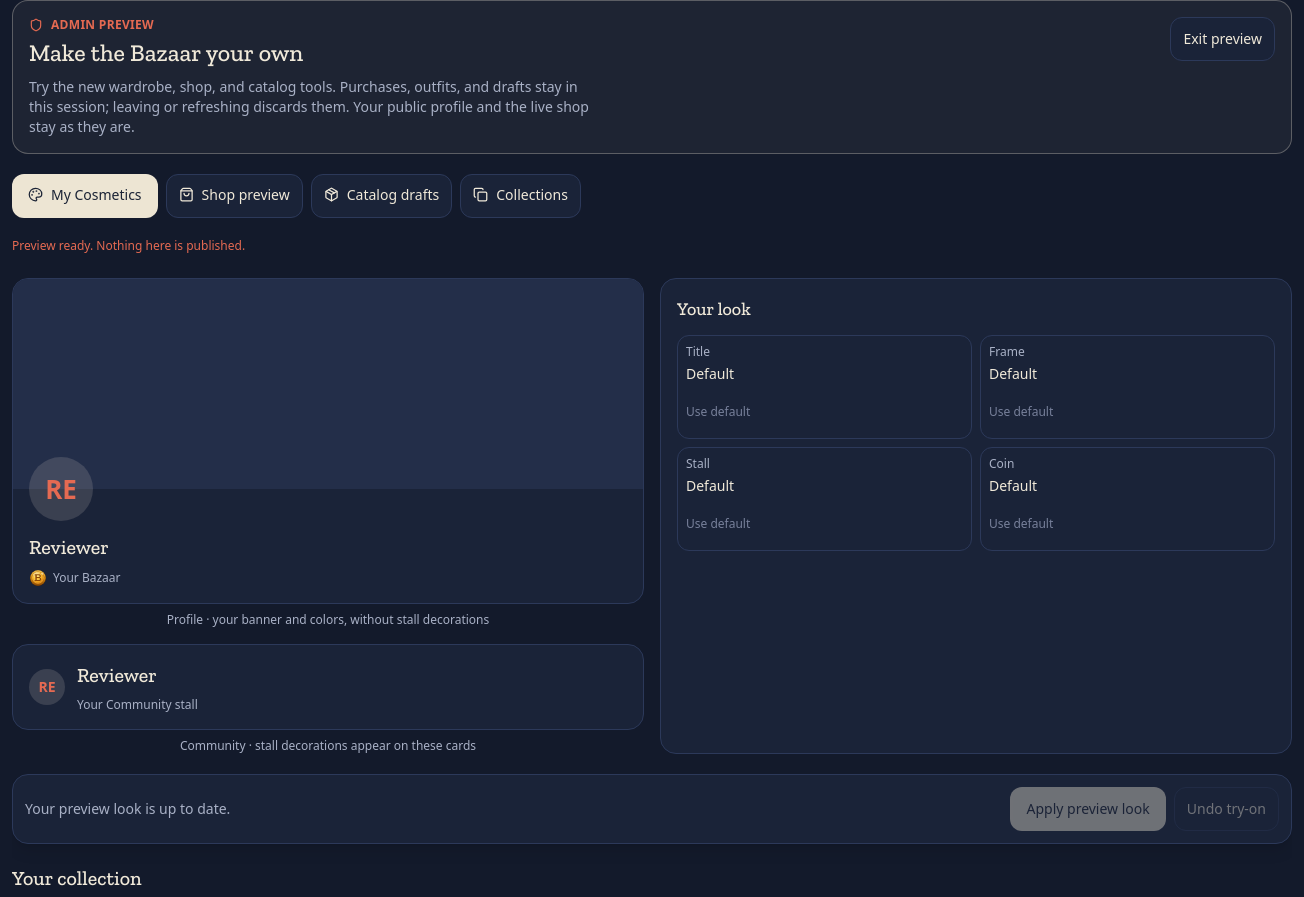
Test: admin-only cosmetics preview › creates a collection and assigns members only within the preview
Click the button "Collections" at x=521, y=196, box [460,174,581,218]
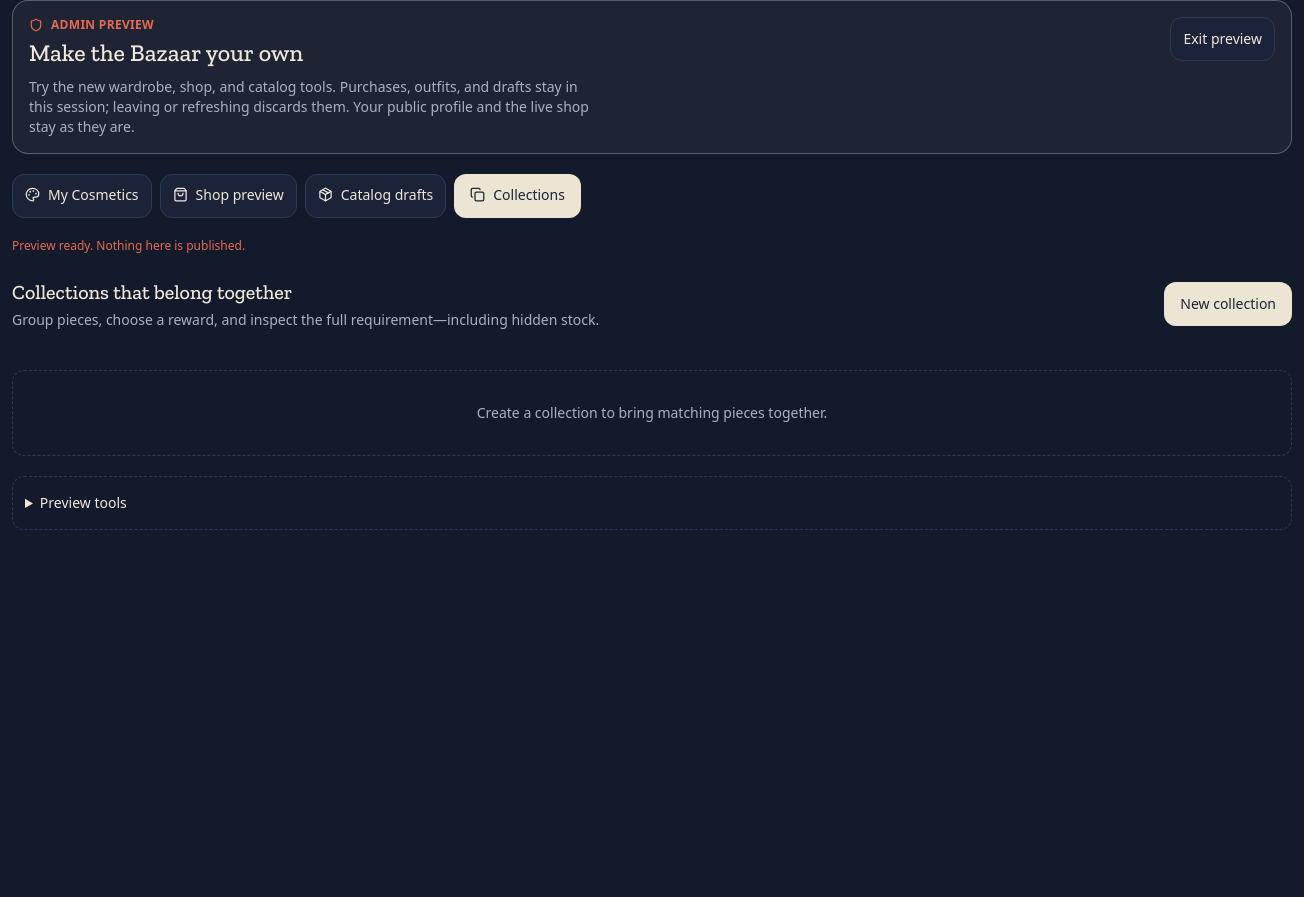
Click the button "New collection" at x=1228, y=304, box [1164,282,1292,326]
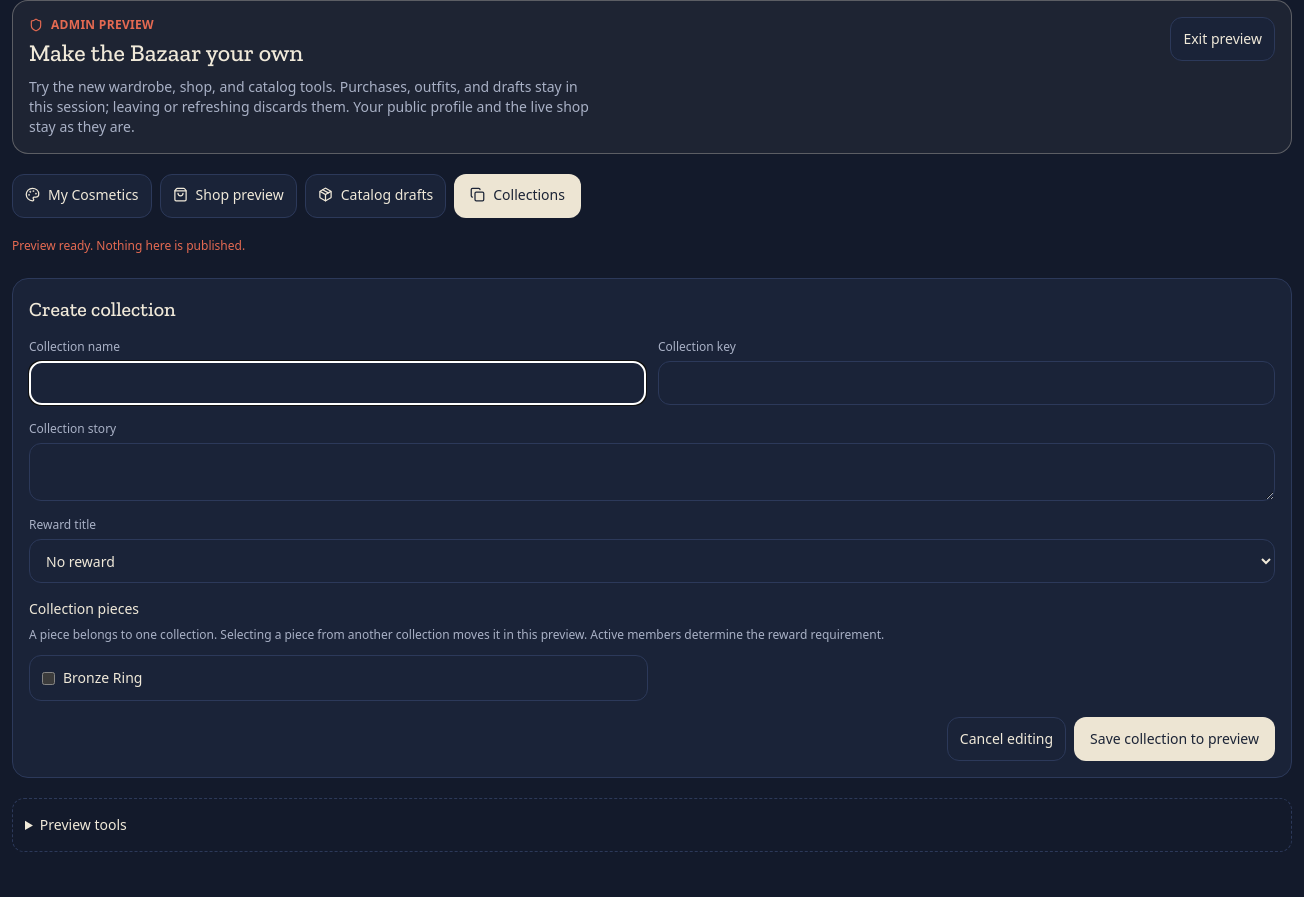
Type "Warm Metals" into the field labelled "Collection name" at x=338, y=383, box [29,361,646,405]
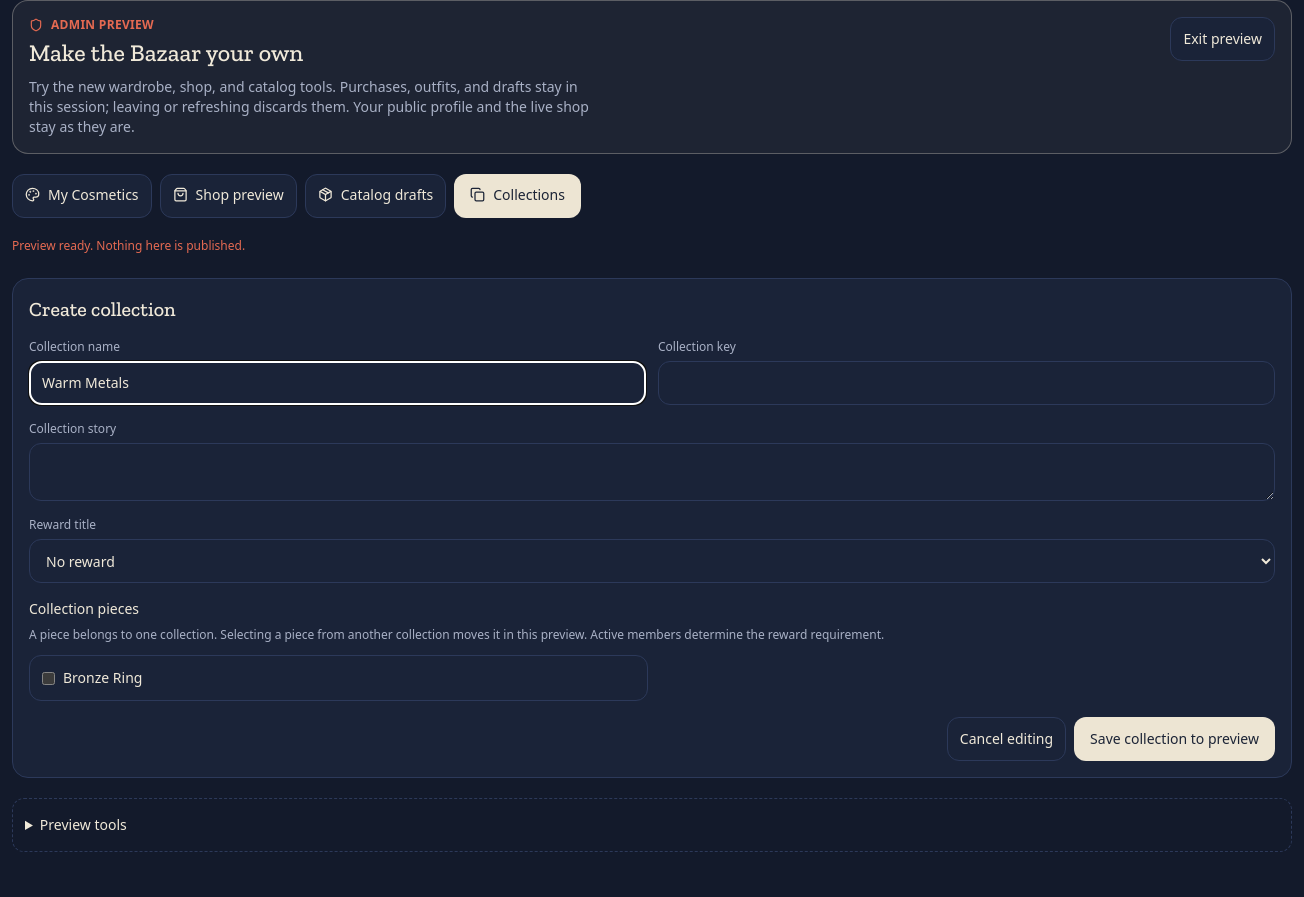
Type "warm-metals" into the field labelled "Collection key" at x=966, y=383, box [658,361,1275,405]
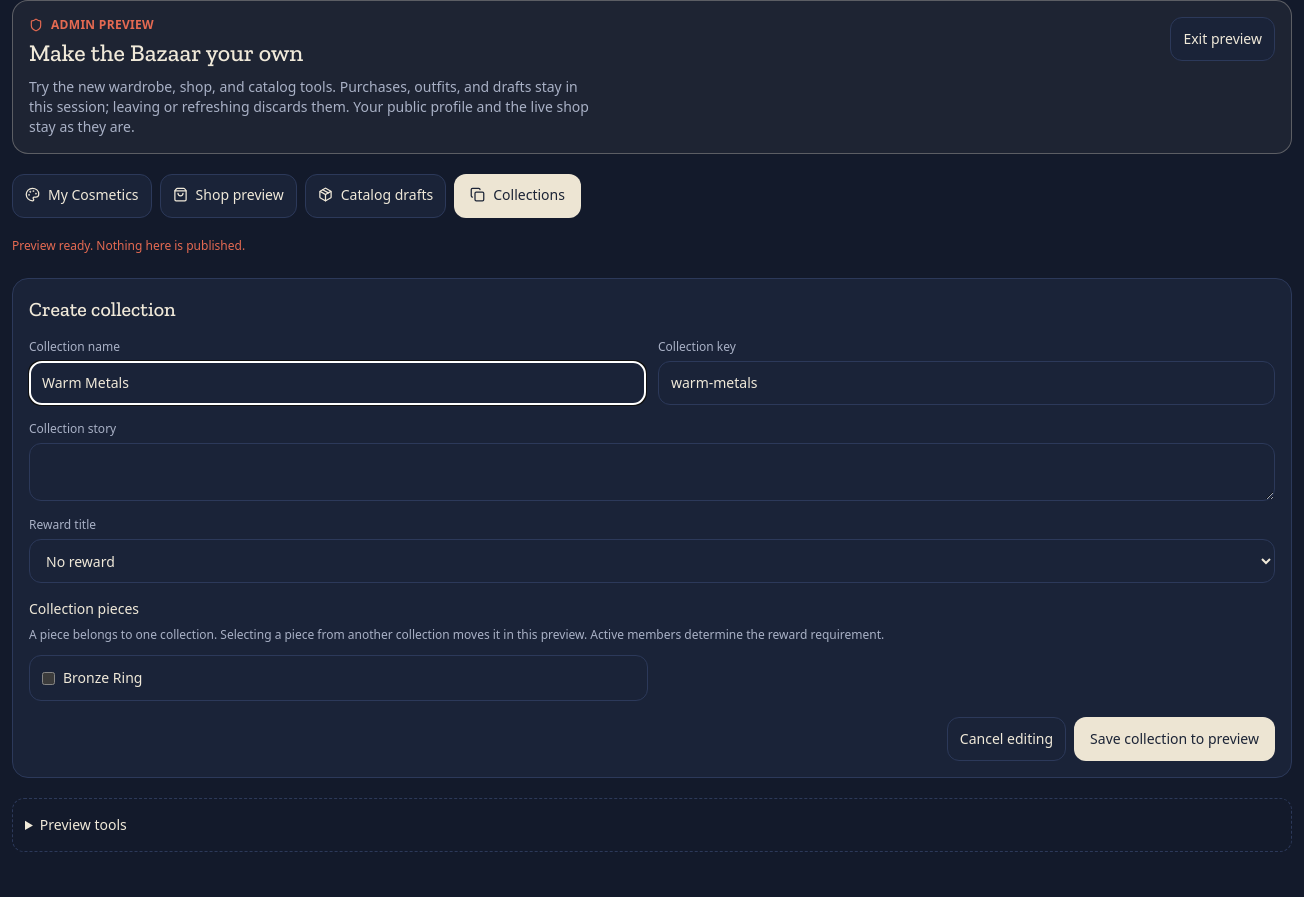
Click the checkbox labelled "Bronze Ring" at x=48, y=678, box [42,672,55,684]
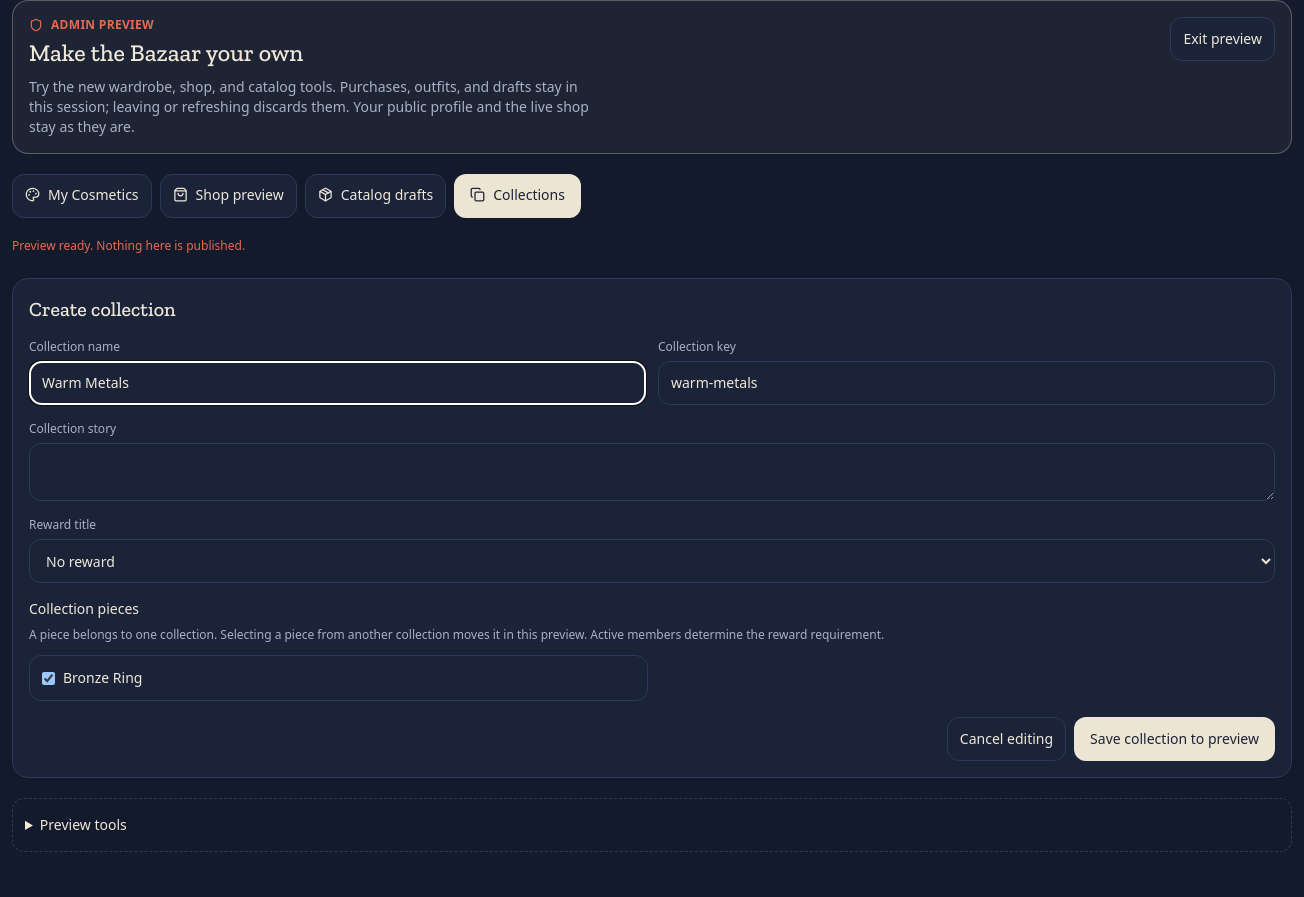
Click the button "Save collection to preview" at x=1175, y=739, box [1074,717,1275,761]
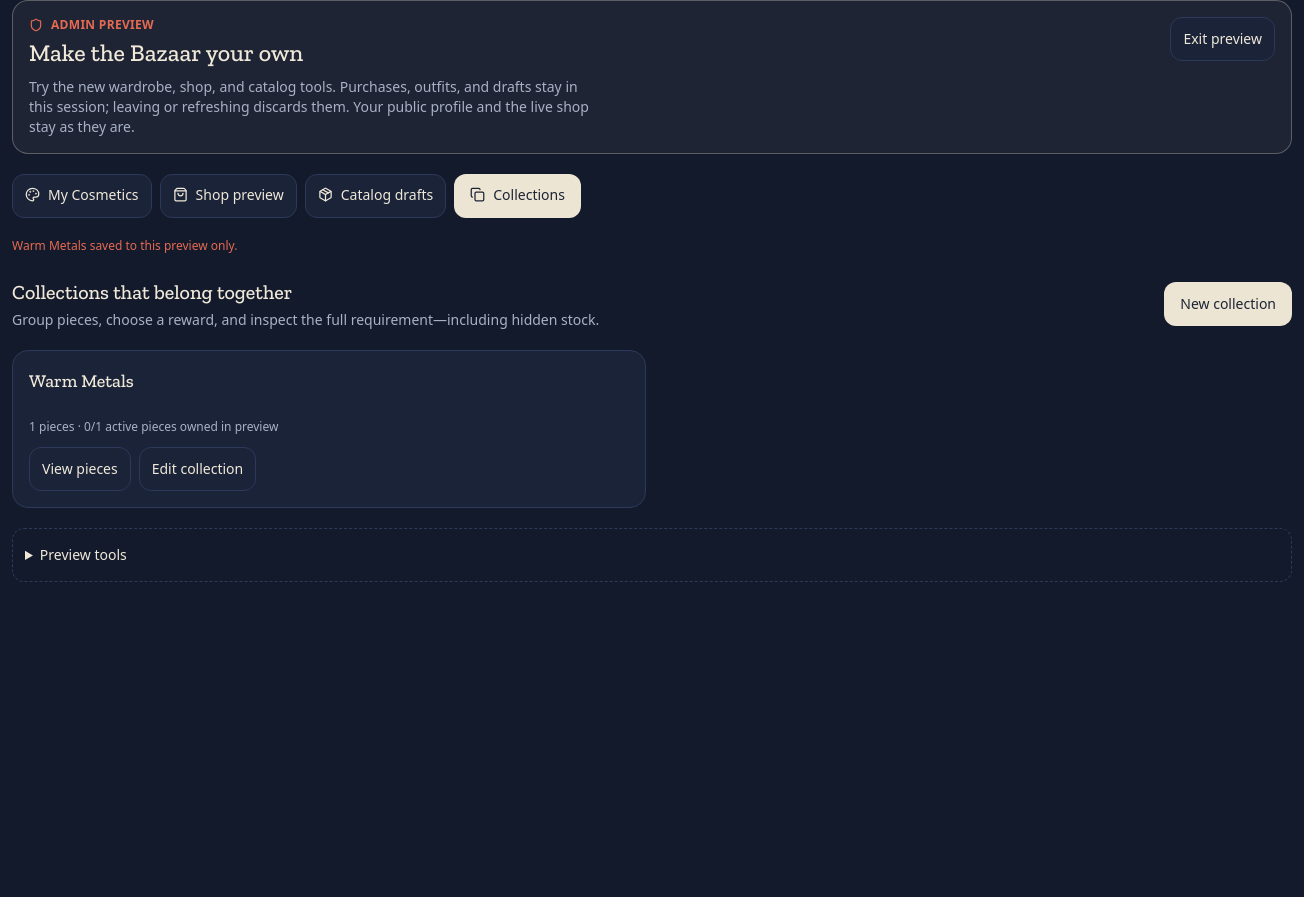
Expected: the heading "Warm Metals" is shown, [29,370,134,392]
Expected: the text "1 pieces · 0/1 active pieces owned in preview" is shown, [29,418,278,435]
